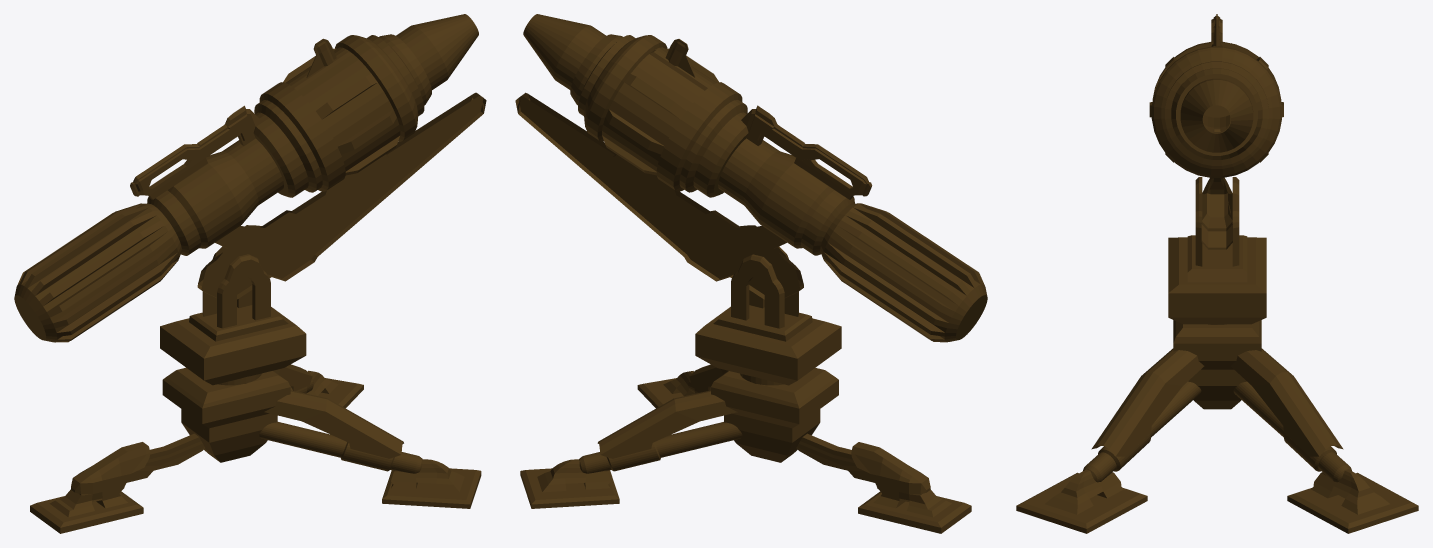
The model's file is tourelle_animé.fbx.
3 renders of one model, left to right at view 1: azimuth 30°, elevation 25°; view 2: azimuth 150°, elevation 25°; view 3: azimuth 270°, elevation 25°, orthographic. The views are drawn at different scales.
Visible parts, largest first — view 1: lance-missile.001, lance-missile; view 2: lance-missile.001, lance-missile; view 3: lance-missile, lance-missile.001.
Part boxes in pixels (bbox=[...]): lance-missile.001: bbox=[14, 14, 486, 342]; lance-missile: bbox=[30, 246, 481, 533]; lance-missile.001: bbox=[515, 14, 987, 342]; lance-missile: bbox=[520, 246, 971, 533]; lance-missile: bbox=[1016, 177, 1418, 533]; lance-missile.001: bbox=[1149, 14, 1283, 249].
Bounding box in the file's own units: 355 × 308 × 241.
